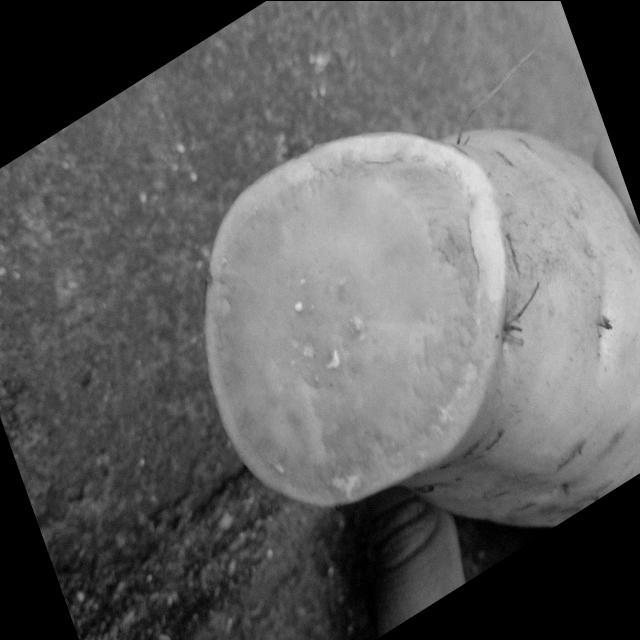Healthy Sweet Potato: (205, 133, 504, 503)
